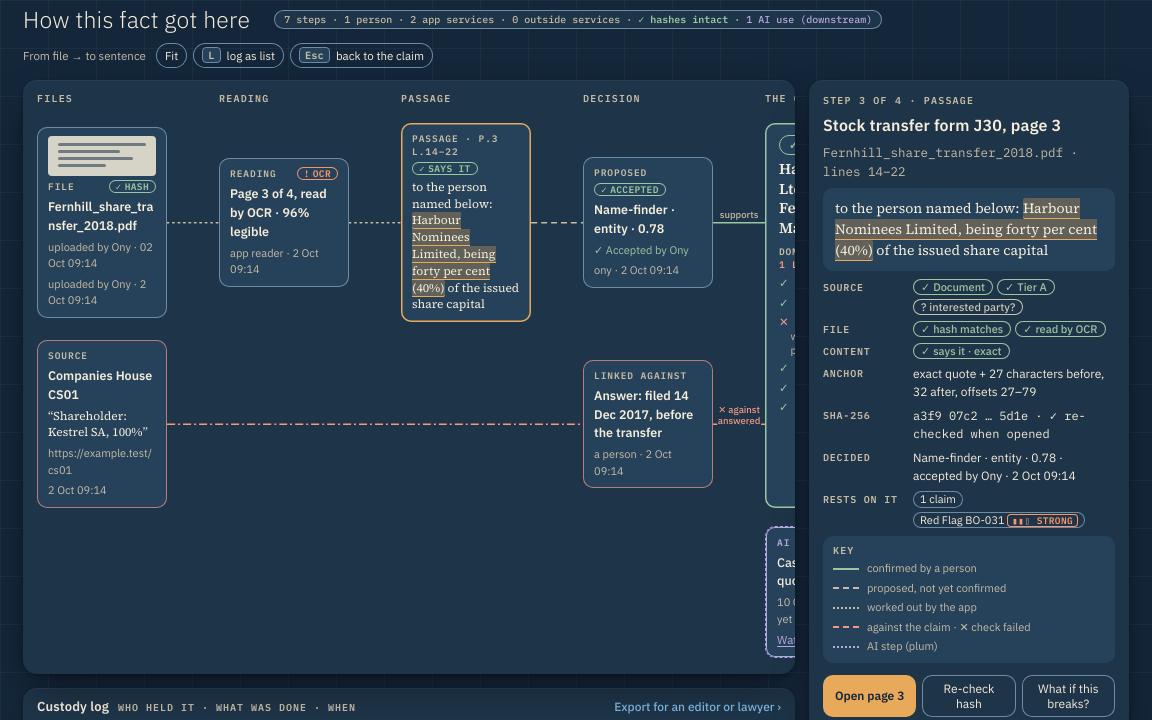
Test case: Chain of Custody › says when a re-check of the file could not be made, instead of keeping the old tick
Click the button "Re-check hash" at (969, 696), box [922,675,1016,717]
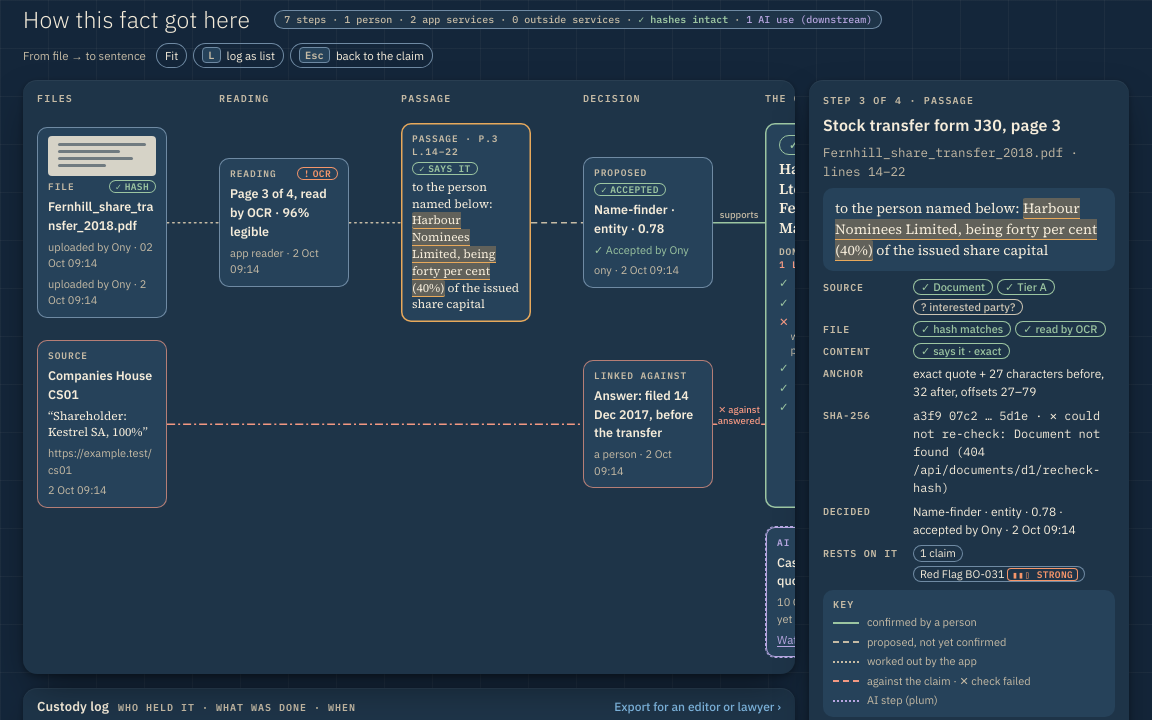
Check: the message shows "✕ could not re-check: Document not found", box [913,408,1100,495]
Check: the text "re-checked when opened" is gone
